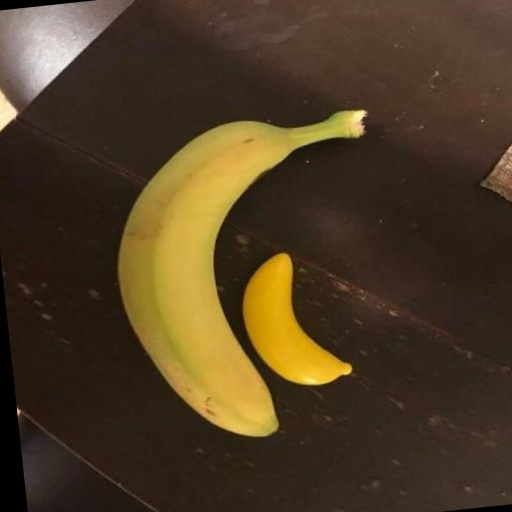fruit: (118, 111, 365, 436), (244, 253, 351, 384)
